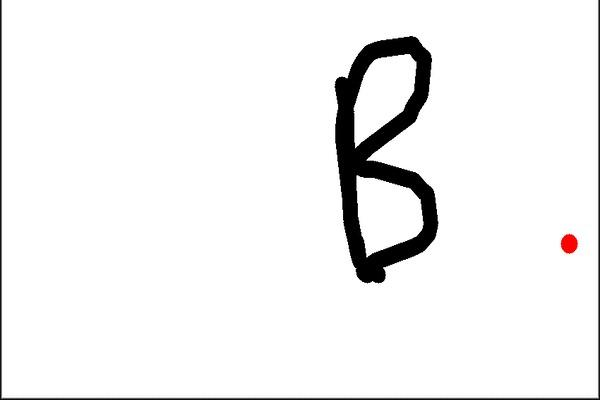B: (320, 29, 452, 292)
